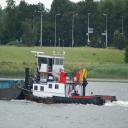tugboat: (23, 50, 119, 110)
